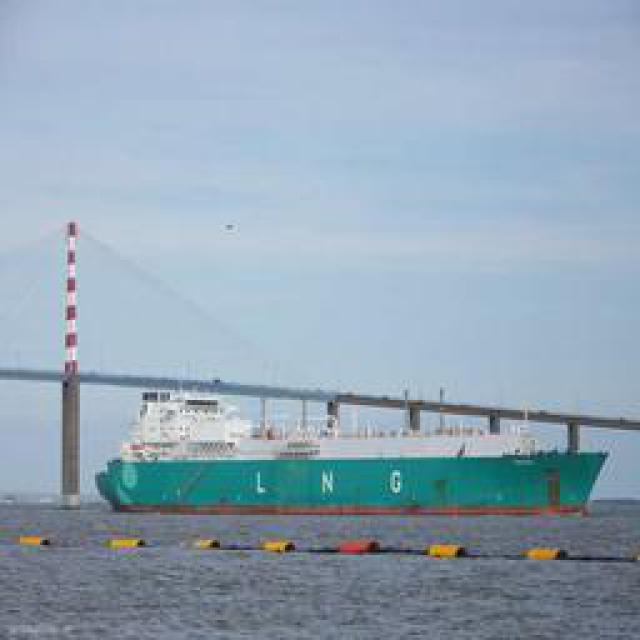Ship: (95, 399, 605, 519)
